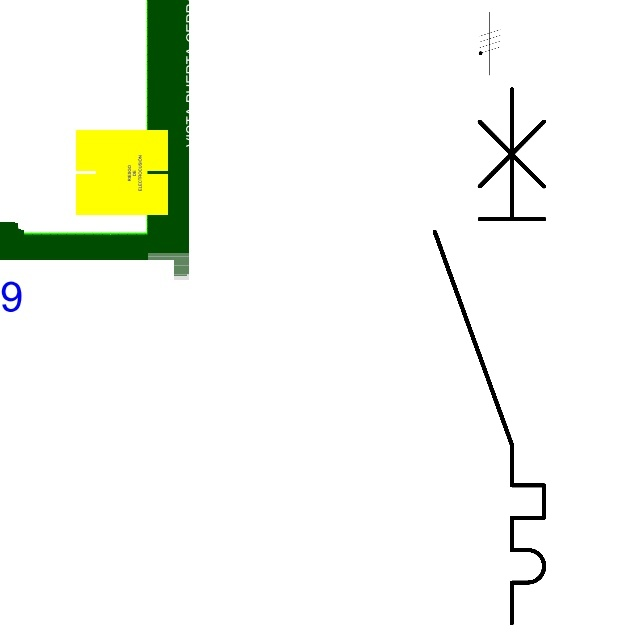interruptor_termomagnetico: (421, 75, 558, 637)
